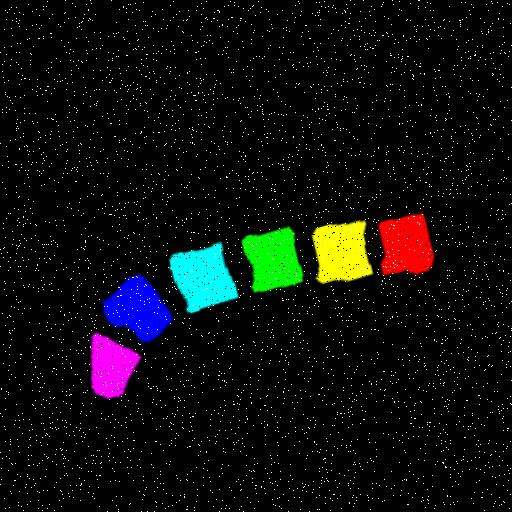L1: (380, 218, 431, 276)
L2: (312, 222, 373, 285)
L3: (242, 228, 303, 293)
L4: (170, 244, 240, 313)
L5: (105, 275, 174, 343)
S1: (92, 333, 142, 399)
